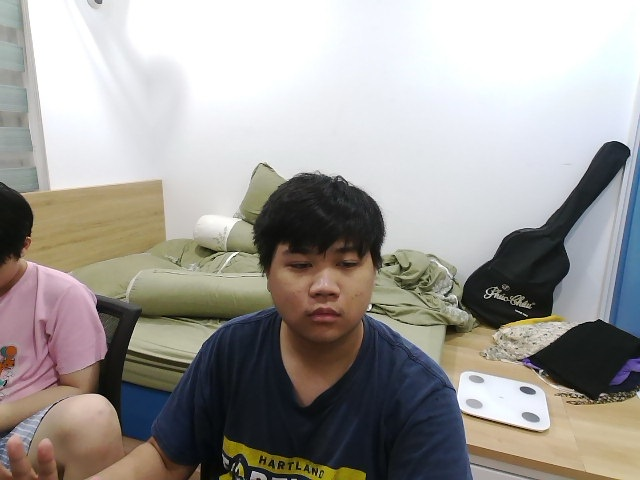face: (249, 172, 389, 345)
